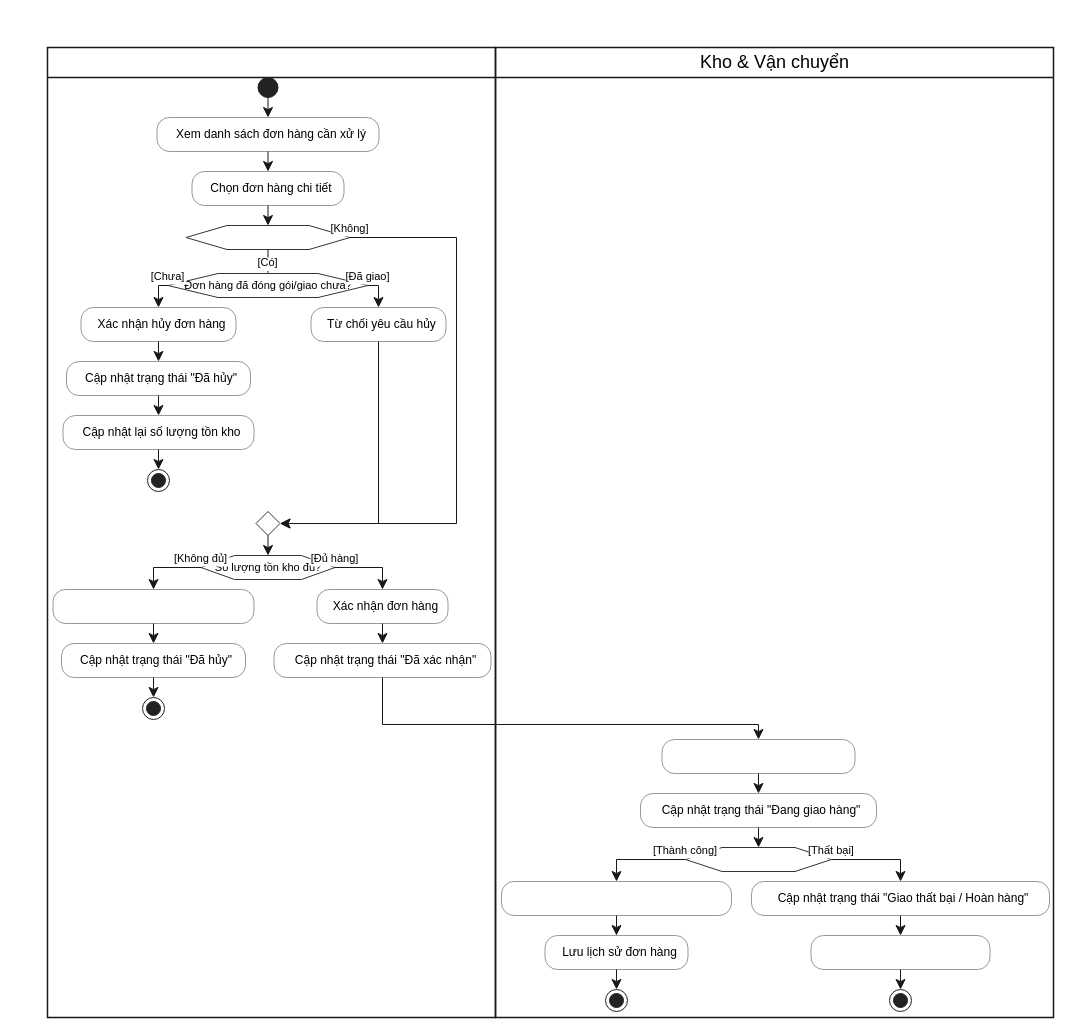
The diagram is 1071 pixels wide and 1035 high, and some of its shapes have lost their labels. The box of each missing label's shape, as (x1, y1, x2, y2) in pixels:
Cập nhật trạng thái "Đã hoàn thành": (501, 881, 731, 915)
Giao hàng thành công?: (684, 846, 832, 872)
Nhân viên / Hệ thống: (46, 46, 496, 1018)
Nhập lại sản phẩm vào kho: (810, 935, 990, 969)
Thông báo hết hàng cho khách: (52, 589, 254, 623)
Tiến hành đóng gói sản phẩm: (661, 739, 855, 773)
Đơn hàng bị yêu cầu HỦY?: (185, 224, 350, 250)
